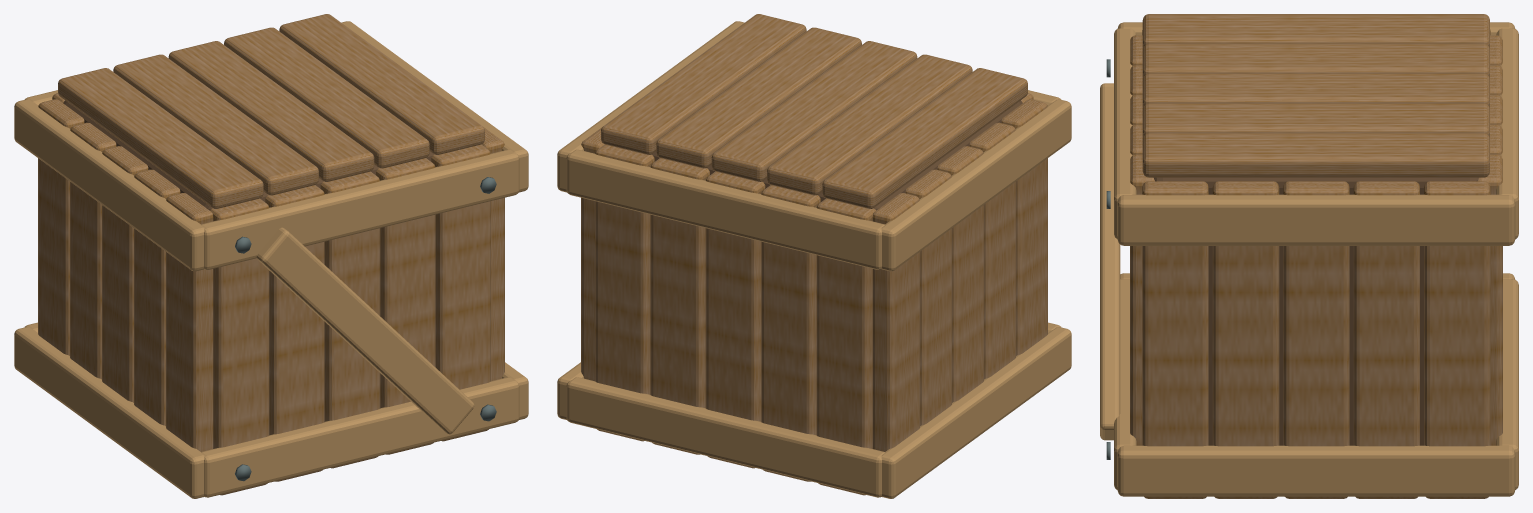
The model's file is crate.glb.
3 views of the same model, side by side, from view 1: azimuth 30°, elevation 25°; view 2: azimuth 150°, elevation 25°; view 3: azimuth 270°, elevation 25° (orthographic). The views are drawn at different scales.
Visible parts, largest first — view 1: Environment_Honey oak.001, Environment_Oak end grain.001, Environment_Dark wood joints.001, Environment_Forged fittings.001; view 2: Environment_Honey oak.001, Environment_Oak end grain.001, Environment_Dark wood joints.001; view 3: Environment_Honey oak.001, Environment_Oak end grain.001, Environment_Dark wood joints.001.
Part boxes in pixels (left/top/right/bottom): Environment_Honey oak.001: left=38, top=14, right=504, bottom=495; Environment_Oak end grain.001: left=14, top=21, right=528, bottom=498; Environment_Dark wood joints.001: left=63, top=100, right=433, bottom=210; Environment_Forged fittings.001: left=235, top=177, right=496, bottom=481; Environment_Honey oak.001: left=581, top=14, right=1047, bottom=495; Environment_Oak end grain.001: left=557, top=21, right=1071, bottom=498; Environment_Dark wood joints.001: left=652, top=100, right=1022, bottom=210; Environment_Honey oak.001: left=1130, top=14, right=1502, bottom=498; Environment_Oak end grain.001: left=1100, top=22, right=1518, bottom=496; Environment_Dark wood joints.001: left=1154, top=177, right=1478, bottom=445.
Size of the model in its own units: 0.855 by 0.7365 by 0.8325.
4 materials, 1 textured.
